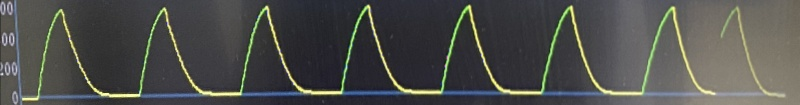normal_volume: (8, 0, 795, 105)
